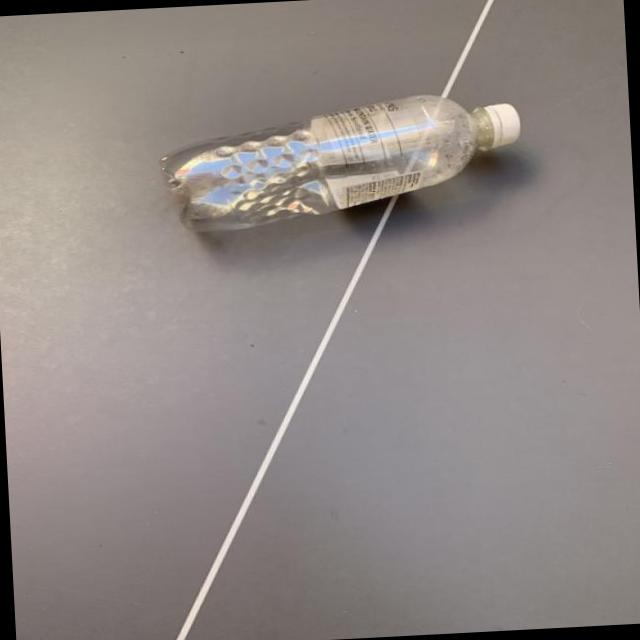plastic_bottle: (156, 88, 524, 233)
